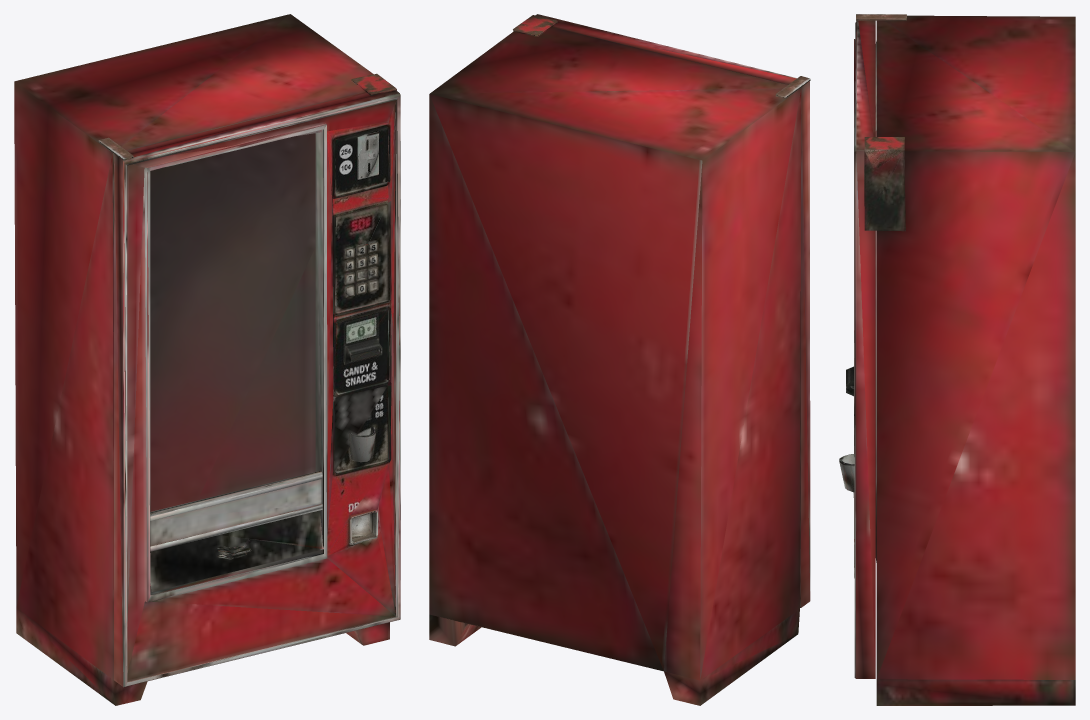
The model's file is prop_vending_machine.glb.
The picture shows the model from 3 angles, left to right: view 1: azimuth 30°, elevation 25°; view 2: azimuth 150°, elevation 25°; view 3: azimuth 270°, elevation 25°; orthographic projection.
Bounding box in the file's own units: 0.4985 × 0.9517 × 0.3657.
Materials: 1 (1 with a texture image).
